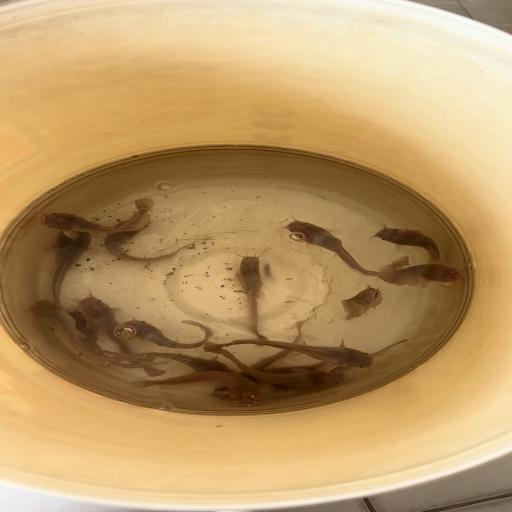lele: (28, 299, 159, 361), (72, 294, 168, 378), (212, 320, 310, 399), (271, 338, 409, 391), (286, 219, 412, 276), (205, 342, 346, 388), (65, 310, 170, 368), (201, 338, 373, 368), (130, 371, 263, 407), (38, 197, 156, 235), (105, 218, 199, 264), (94, 348, 233, 376), (236, 255, 280, 342), (46, 231, 92, 305), (122, 317, 214, 349), (374, 225, 446, 263), (378, 256, 464, 287), (340, 286, 388, 321), (257, 362, 331, 380)
